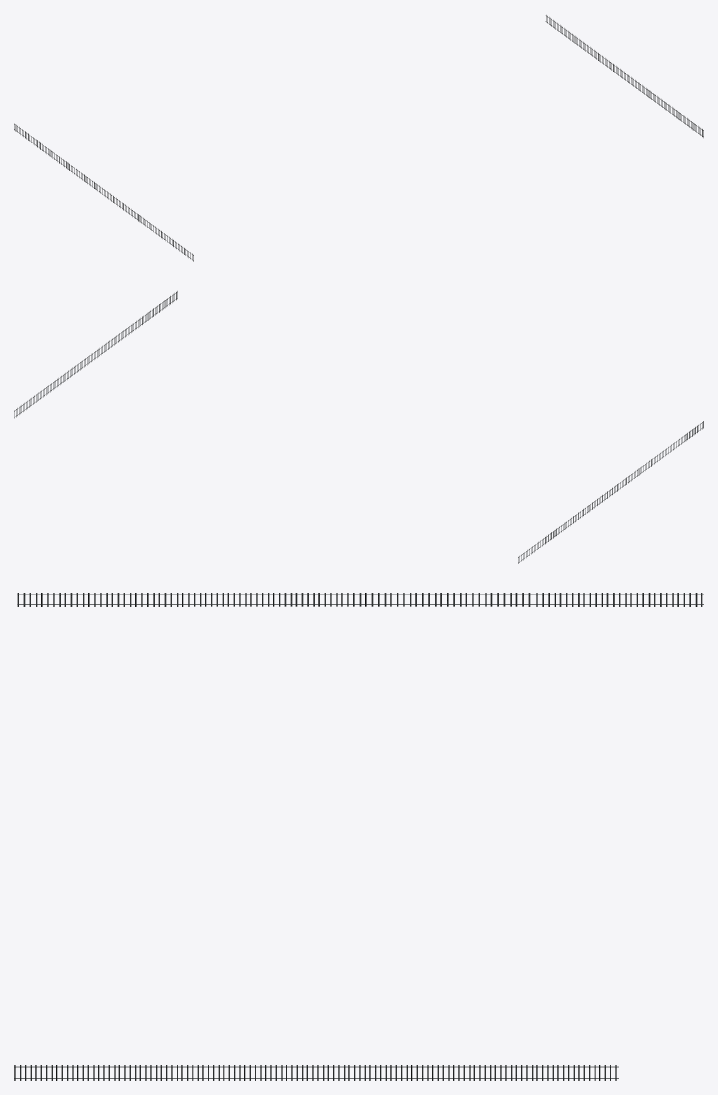
The model's file is vgnmall258_rail.obj.
The picture shows the model from 3 angles, top to bottom: view 1: azimuth 30°, elevation 25°; view 2: azimuth 150°, elevation 25°; view 3: azimuth 270°, elevation 25°; orthographic projection. The views are drawn at different scales.
Visible parts, largest first — view 1: vgnmall258_rail; view 2: vgnmall258_rail; view 3: vgnmall258_rail.
Boxes of the visible parts, left/top/right/bottom form: vgnmall258_rail: left=14, top=15, right=703, bottom=261; vgnmall258_rail: left=14, top=291, right=703, bottom=563; vgnmall258_rail: left=14, top=593, right=703, bottom=1080.
Size of the model in its own units: 97.49 by 1.51 by 59.97.
1 material, 1 textured.
